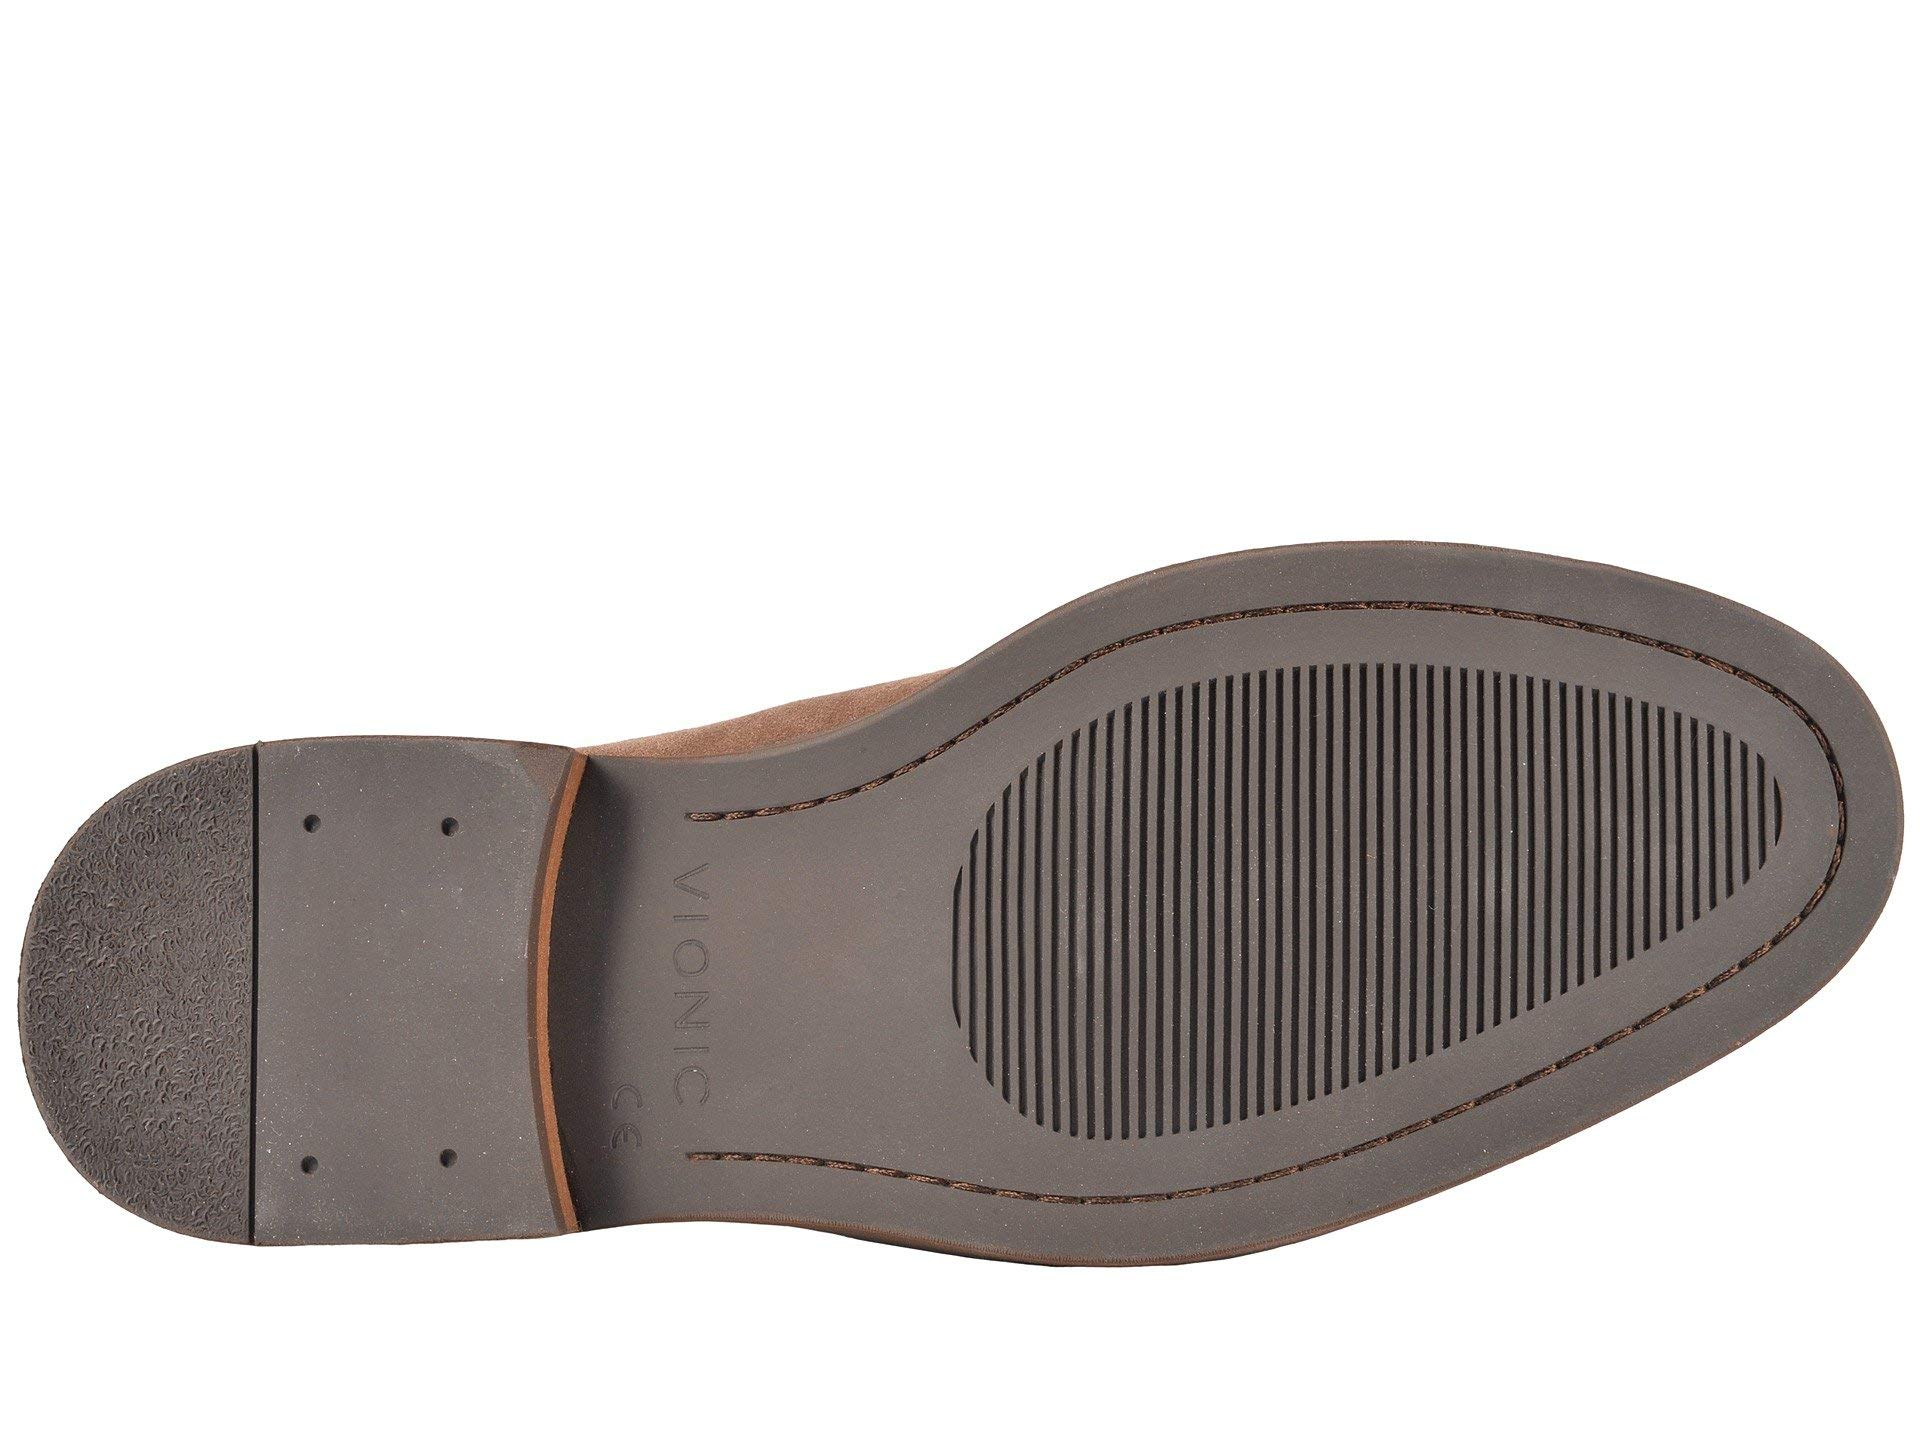line: (1141, 756, 1426, 1007)
